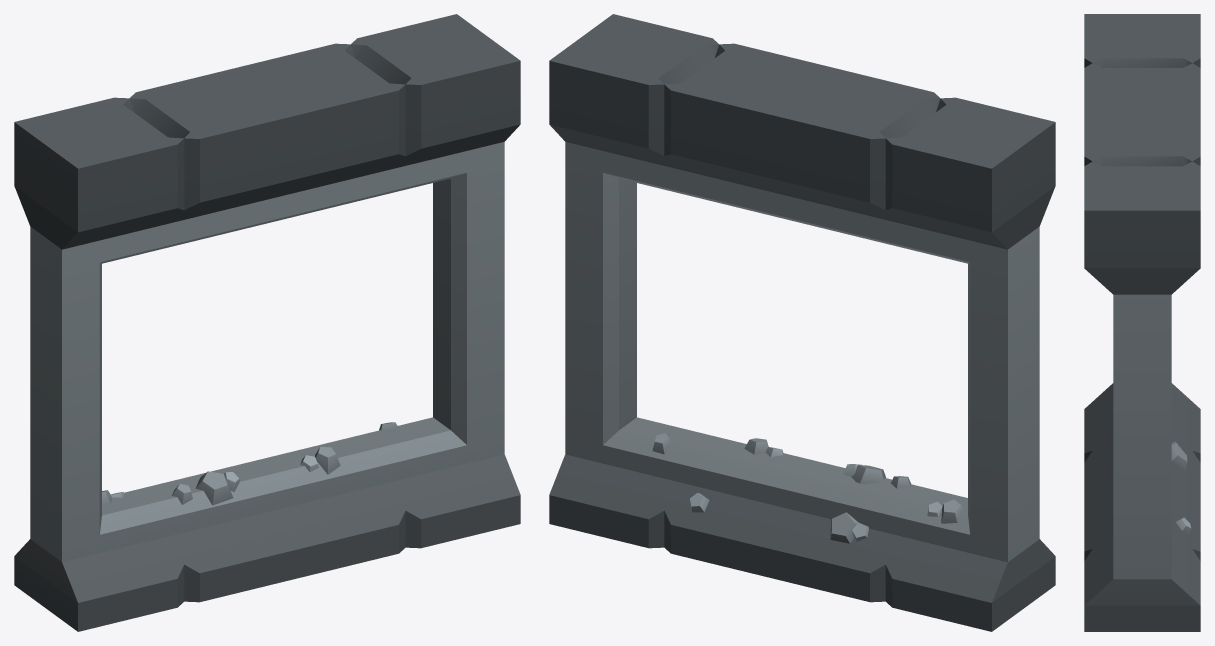
The model's file is wall_gated_arch.gltf.glb.
3 renders of one model, left to right at view 1: azimuth 30°, elevation 25°; view 2: azimuth 150°, elevation 25°; view 3: azimuth 270°, elevation 25°, orthographic. The views are drawn at different scales.
Parts seen in each view (by area): view 1: wall_gated; view 2: wall_gated; view 3: wall_gated.
Boxes of the visible parts, x1,y1,x2,y2 form: wall_gated: (14,14,520,631); wall_gated: (549,14,1055,631); wall_gated: (1084,14,1200,631).
Size of the model in its own units: 4 by 4 by 1.
1 material, 1 textured.
